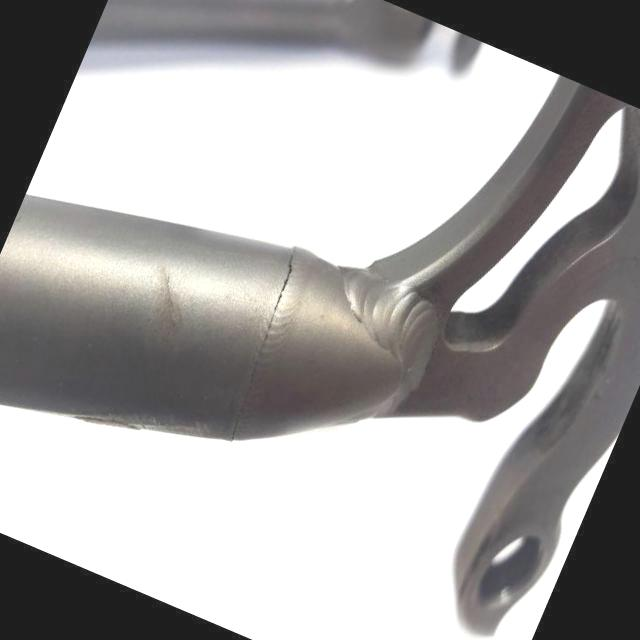defect: (229, 242, 299, 444)
